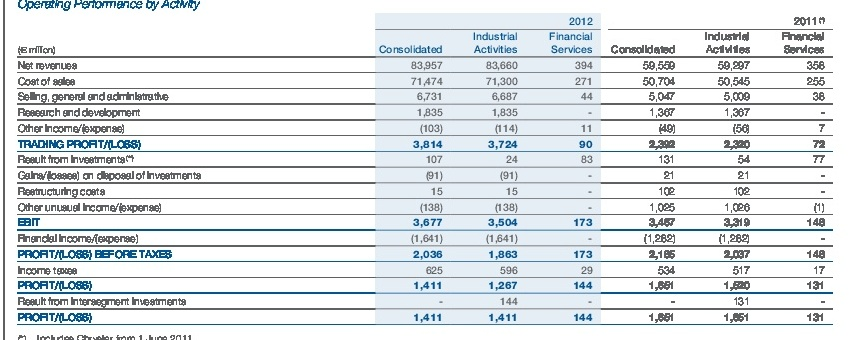table: (0, 0, 854, 340)
